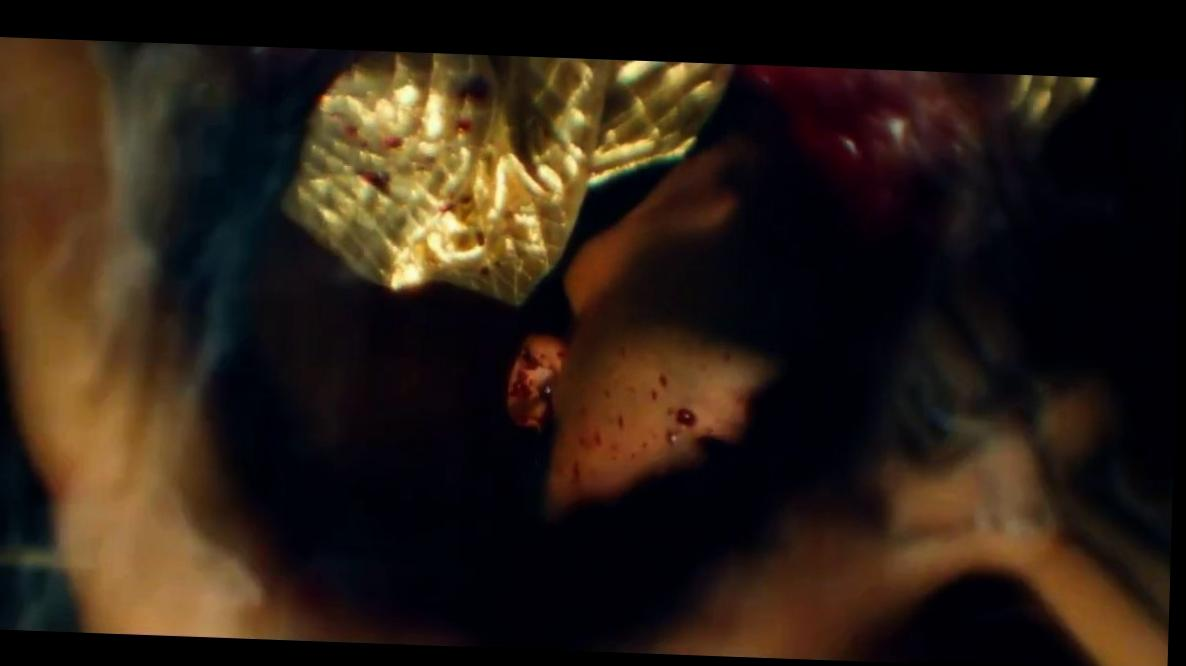Fire: (510, 322, 781, 509), (749, 60, 1002, 209), (402, 84, 475, 187), (996, 69, 1095, 127), (357, 167, 391, 193), (443, 196, 468, 222), (480, 203, 498, 234), (473, 237, 495, 253), (465, 224, 483, 237), (439, 198, 457, 210), (385, 135, 403, 147), (345, 124, 358, 136), (361, 138, 370, 147), (482, 264, 490, 271), (473, 203, 478, 212), (462, 225, 468, 232)
